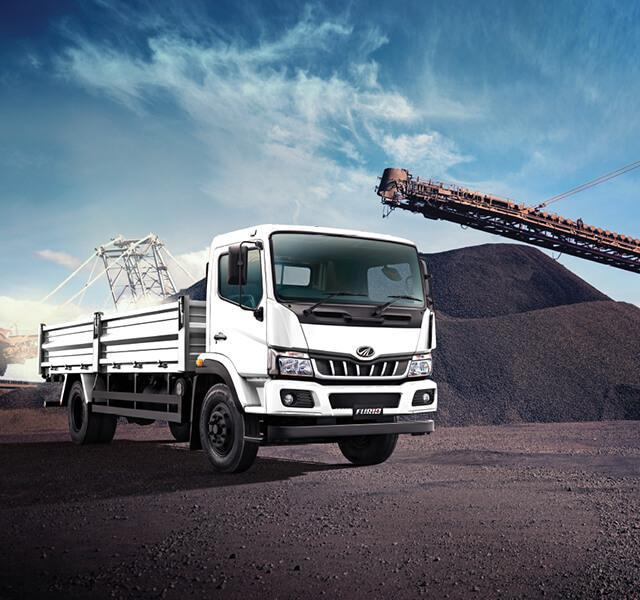truck: (39, 222, 437, 472)
